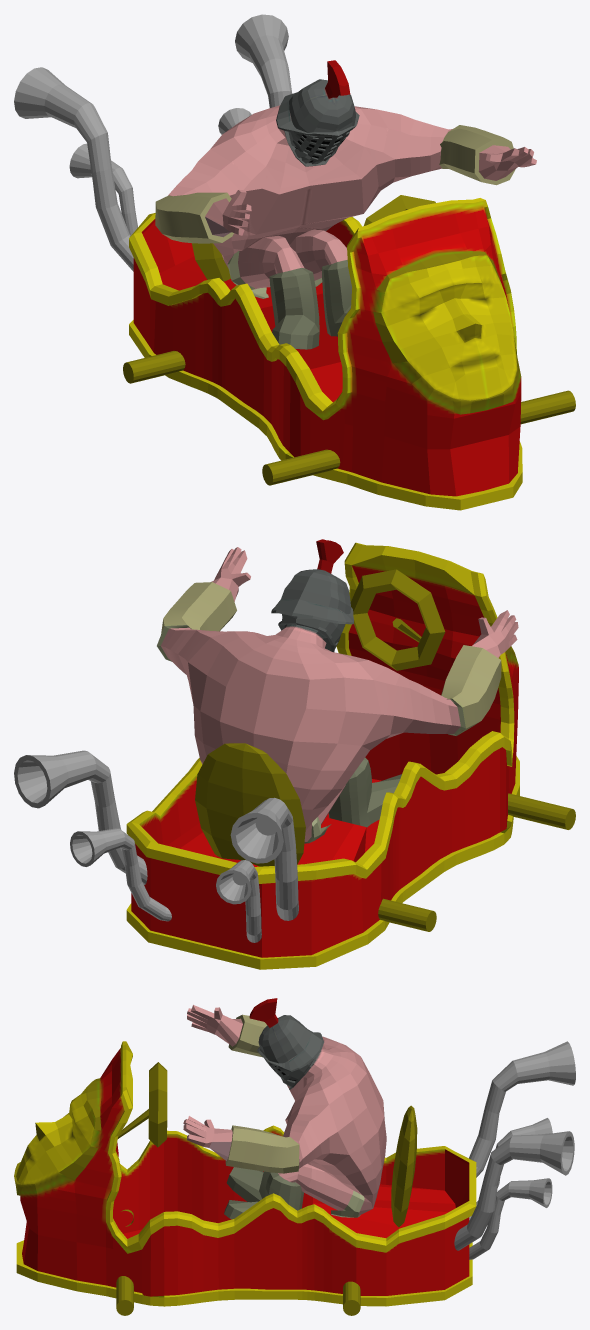
File: GladiHabilidad_000532.obj
3 renders of one model, top to bottom at view 1: azimuth 30°, elevation 25°; view 2: azimuth 150°, elevation 25°; view 3: azimuth 270°, elevation 25°, orthographic. The views are drawn at different scales.
Parts seen in each view (by area): view 1: GladiChasis_GladiChasisH, Gadiador_Gladiador_H.001, GladiTubos_GladiTubosH, GladiVolante_GladiVolanteH; view 2: GladiChasis_GladiChasisH, Gadiador_Gladiador_H.001, GladiVolante_GladiVolanteH, GladiTubos_GladiTubosH; view 3: GladiChasis_GladiChasisH, Gadiador_Gladiador_H.001, GladiTubos_GladiTubosH, GladiVolante_GladiVolanteH.
Boxes of the visible parts, x1,y1,x2,y2 form: GladiChasis_GladiChasisH: [129, 198, 522, 510]; Gadiador_Gladiador_H.001: [155, 60, 536, 349]; GladiTubos_GladiTubosH: [14, 14, 292, 271]; GladiVolante_GladiVolanteH: [123, 195, 575, 485]; GladiChasis_GladiChasisH: [126, 542, 519, 969]; Gadiador_Gladiador_H.001: [157, 539, 518, 843]; GladiVolante_GladiVolanteH: [195, 569, 575, 931]; GladiTubos_GladiTubosH: [14, 750, 298, 942]; GladiChasis_GladiChasisH: [14, 1041, 476, 1306]; Gadiador_Gladiador_H.001: [183, 998, 386, 1219]; GladiTubos_GladiTubosH: [454, 1041, 575, 1259]; GladiVolante_GladiVolanteH: [116, 1062, 417, 1315].
Size of the model in its own units: 5.83 by 5.6 by 10.78.
